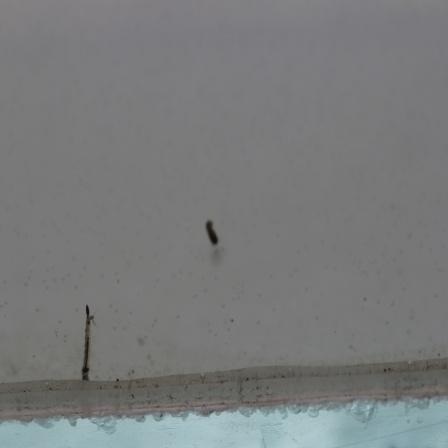Jentik-Nyamuk: (77, 302, 98, 383), (202, 214, 223, 251)
